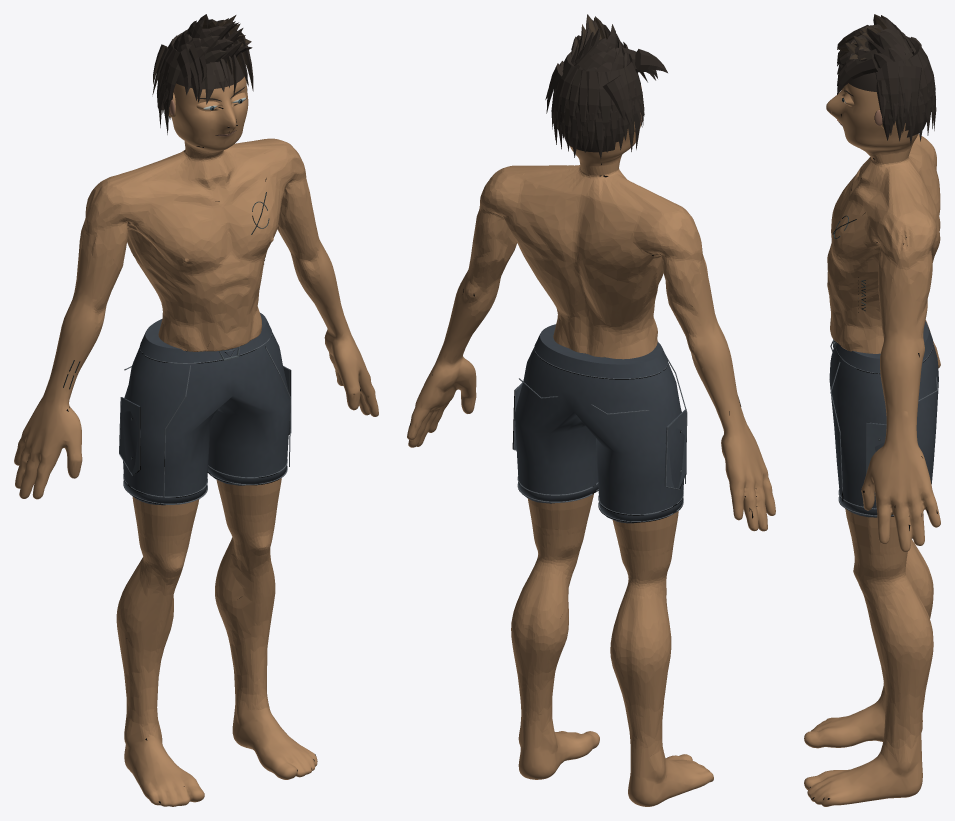
File: aren_visual.glb
The picture shows the model from 3 angles, left to right: view 1: azimuth 30°, elevation 25°; view 2: azimuth 150°, elevation 25°; view 3: azimuth 270°, elevation 25°; orthographic projection.
Visible parts, largest first — view 1: ArenVisual; view 2: ArenVisual; view 3: ArenVisual.
Part boxes in pixels (x1,y1,x2,y2): ArenVisual: [14, 14, 378, 806]; ArenVisual: [407, 14, 775, 806]; ArenVisual: [804, 14, 940, 806].
Bounding box in the file's own units: 0.8418 × 1.73 × 0.2851.
1 material, 1 textured.
